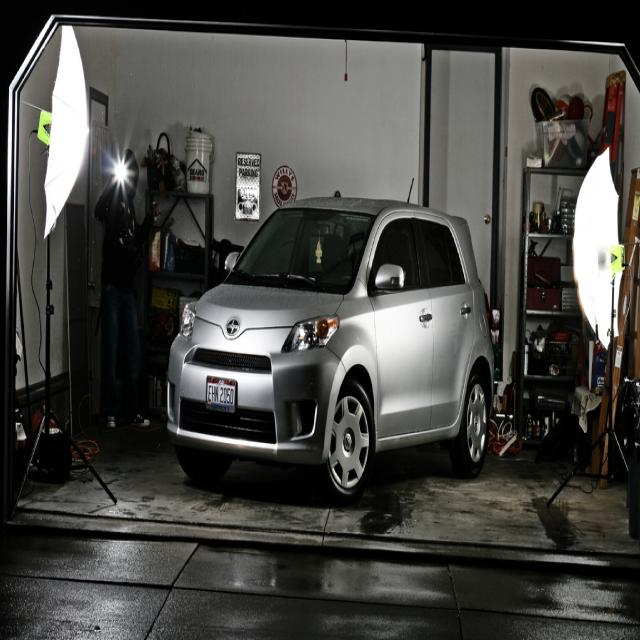Car: (166, 178, 495, 501)
